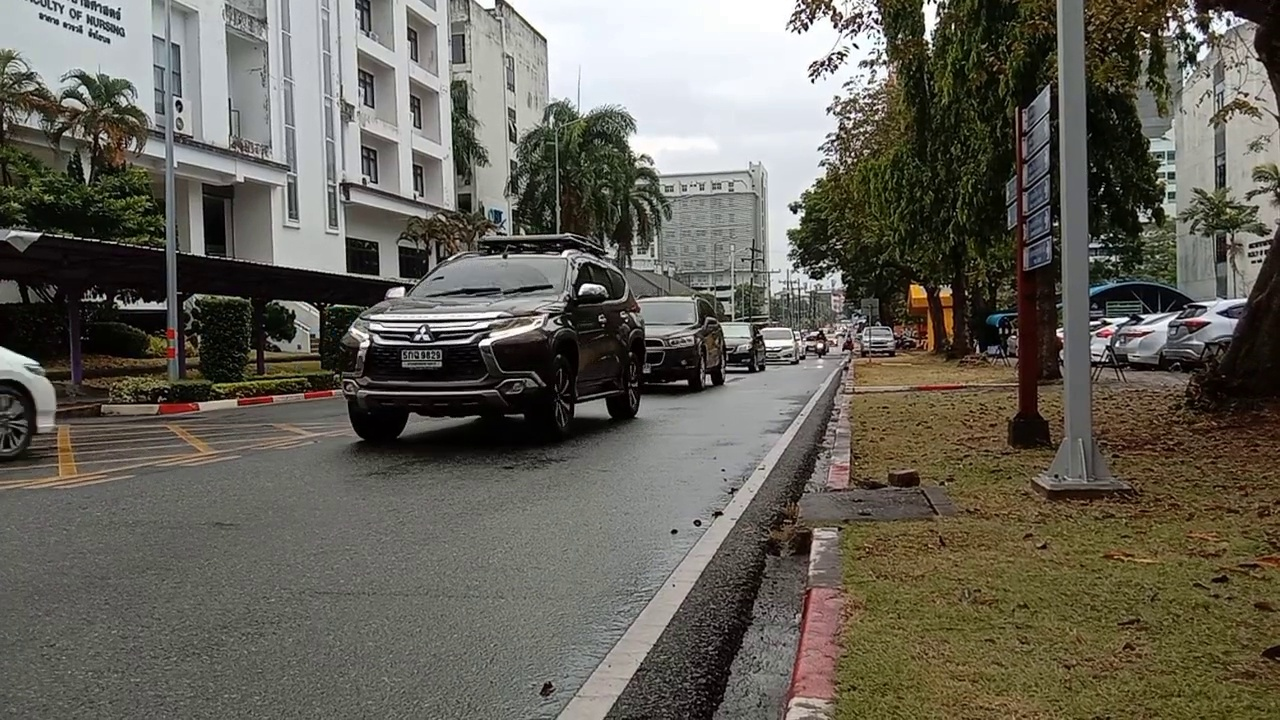License Plate: (399, 350, 442, 369)
